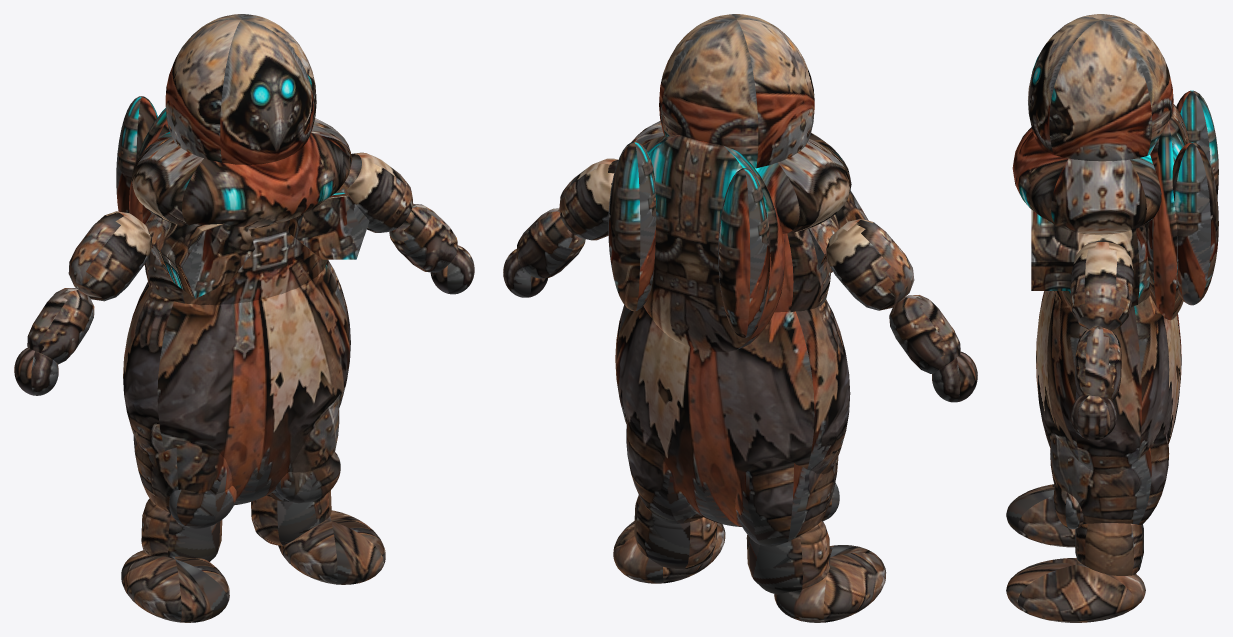
File: ashland-survivor-r19.glb
3 views of the same model, side by side, from view 1: azimuth 30°, elevation 25°; view 2: azimuth 150°, elevation 25°; view 3: azimuth 270°, elevation 25° (orthographic). The views are drawn at different scales.
Parts seen in each view (by area): view 1: Hero | torn coat volume, Hero | hood and gas mask mass, Hero | scarf and collar mass, Hero | armored torso, Hero | scavenger boot L, Hero | faceted pauldron L, Hero | scavenger boot R, Hero | upper sleeve L, Hero | thigh L, Hero | upper sleeve R, Hero | faceted pauldron R, Hero | armored forearm L (+10 smaller); view 2: Hero | torn coat volume, Hero | hood and gas mask mass, Hero | rear pack volume, Hero | reactor tank L, Hero | thigh L, Hero | reactor tank R, Hero | scarf and collar mass, Hero | upper sleeve L, Hero | scavenger boot L, Hero | wrapped shin L, Hero | armored forearm L, Hero | wrapped shin R (+8 smaller); view 3: Hero | hood and gas mask mass, Hero | torn coat volume, Hero | scarf and collar mass, Hero | scavenger boot R, Hero | thigh R, Hero | reactor tank R, Hero | rear pack volume, Hero | upper sleeve R, Hero | faceted pauldron R, Hero | wrapped shin R, Hero | armored forearm R, Hero | scavenger boot L (+4 smaller).
Part boxes in pixels (<box>): Hero | torn coat volume: <box>123,260,350,505</box>; Hero | hood and gas mask mass: <box>165,14,316,164</box>; Hero | scarf and collar mass: <box>131,118,352,229</box>; Hero | armored torso: <box>145,213,327,305</box>; Hero | scavenger boot L: <box>121,550,229,622</box>; Hero | faceted pauldron L: <box>145,213,254,298</box>; Hero | scavenger boot R: <box>278,510,385,584</box>; Hero | upper sleeve L: <box>68,211,151,301</box>; Hero | thigh L: <box>133,435,232,513</box>; Hero | upper sleeve R: <box>339,152,412,232</box>; Hero | faceted pauldron R: <box>288,189,369,259</box>; Hero | armored forearm L: <box>27,288,94,364</box>; Hero | torn coat volume: <box>615,299,850,526</box>; Hero | hood and gas mask mass: <box>659,14,814,168</box>; Hero | rear pack volume: <box>643,135,785,351</box>; Hero | reactor tank L: <box>718,168,770,337</box>; Hero | thigh L: <box>735,456,838,546</box>; Hero | reactor tank R: <box>608,141,656,311</box>; Hero | scarf and collar mass: <box>631,121,851,233</box>; Hero | upper sleeve L: <box>826,219,914,310</box>; Hero | scavenger boot L: <box>774,545,886,622</box>; Hero | wrapped shin L: <box>746,520,830,594</box>; Hero | armored forearm L: <box>889,295,960,373</box>; Hero | wrapped shin R: <box>634,495,717,569</box>; Hero | hood and gas mask mass: <box>1028,14,1173,161</box>; Hero | torn coat volume: <box>1036,291,1181,474</box>; Hero | scarf and collar mass: <box>1012,127,1161,234</box>; Hero | scavenger boot R: <box>1006,558,1145,622</box>; Hero | thigh R: <box>1050,433,1169,524</box>; Hero | reactor tank R: <box>1172,142,1218,305</box>; Hero | rear pack volume: <box>1144,104,1189,320</box>; Hero | upper sleeve R: <box>1070,240,1133,330</box>; Hero | faceted pauldron R: <box>1031,209,1117,290</box>; Hero | wrapped shin R: <box>1075,523,1143,575</box>; Hero | armored forearm R: <box>1074,326,1121,401</box>; Hero | scavenger boot L: <box>1006,484,1075,547</box>.
Bounding box in the file's own units: 1.75 × 2.07 × 0.715.
4 materials, 4 textured.
